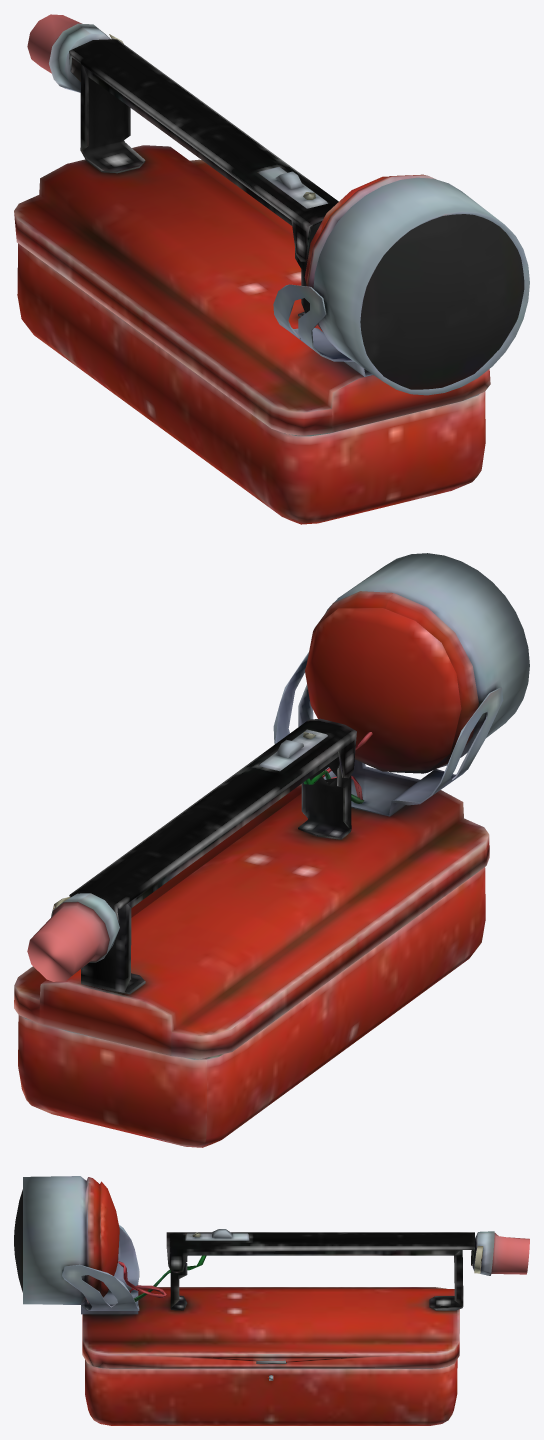
Rendered from vintage_flashlight_lod1.glb.
The picture shows the model from 3 angles, top to bottom: view 1: azimuth 30°, elevation 25°; view 2: azimuth 150°, elevation 25°; view 3: azimuth 270°, elevation 25°; orthographic projection. The views are drawn at different scales.
Visible parts, largest first — view 1: vintage_flashlight; view 2: vintage_flashlight; view 3: vintage_flashlight.
Part boxes in pixels (bbox=[...]): vintage_flashlight: bbox=[14, 14, 529, 524]; vintage_flashlight: bbox=[14, 553, 529, 1147]; vintage_flashlight: bbox=[14, 1176, 529, 1425].
Bounding box in the file's own units: 0.0955 × 0.1431 × 0.305.
2 materials, 2 textured.
